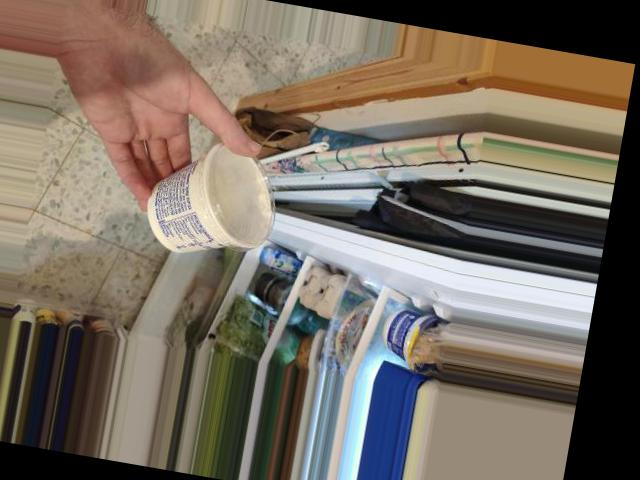cotage: (145, 147, 281, 262)
